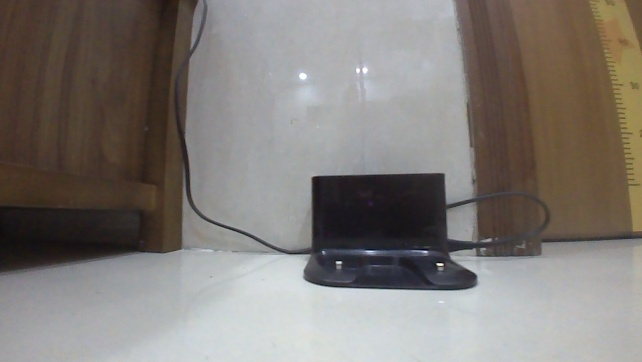charger: (300, 170, 479, 292)
wire: (171, 0, 313, 255), (446, 188, 554, 252)
